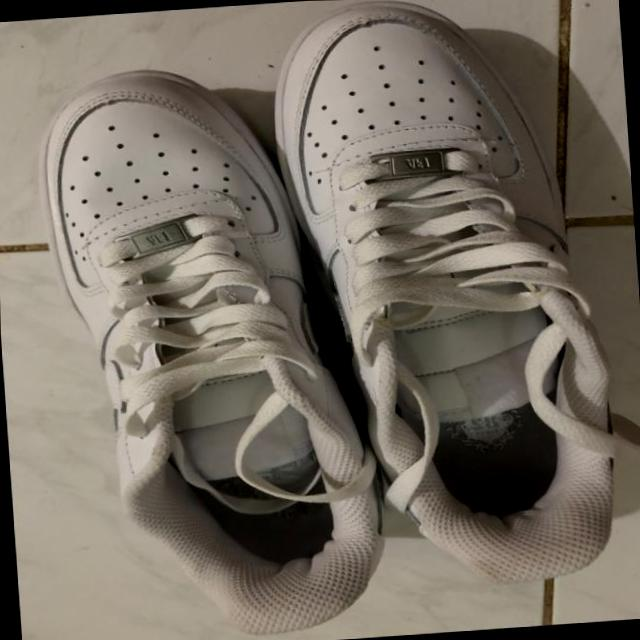nike_fake_airforce: (252, 0, 627, 598), (33, 50, 385, 640)
